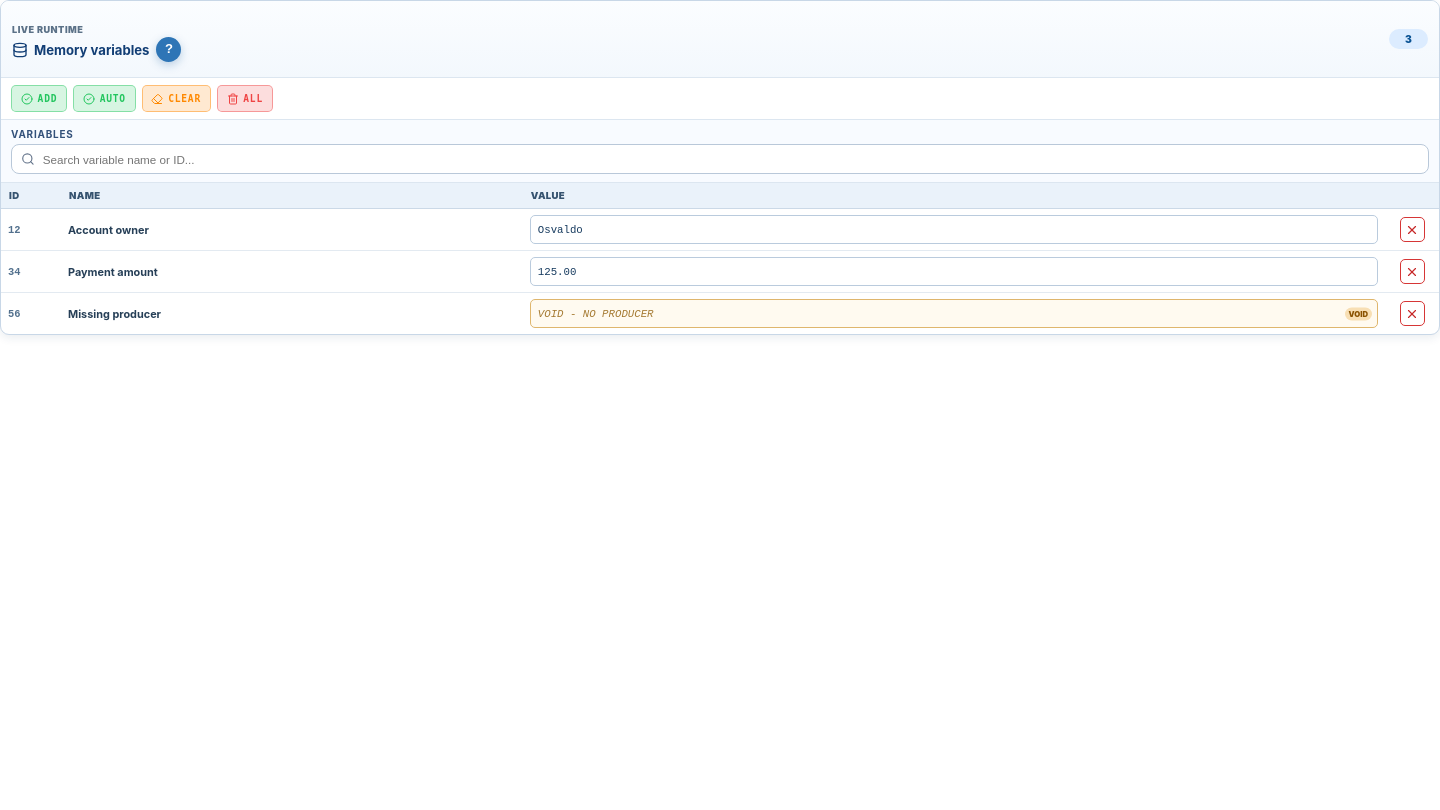
Scenario: opens concise Memory variable rules help
The image size is (1440, 810).
Click the button named "Open Memory variable rules" at (169, 49), box x1=156 y1=36 x2=181 y2=62
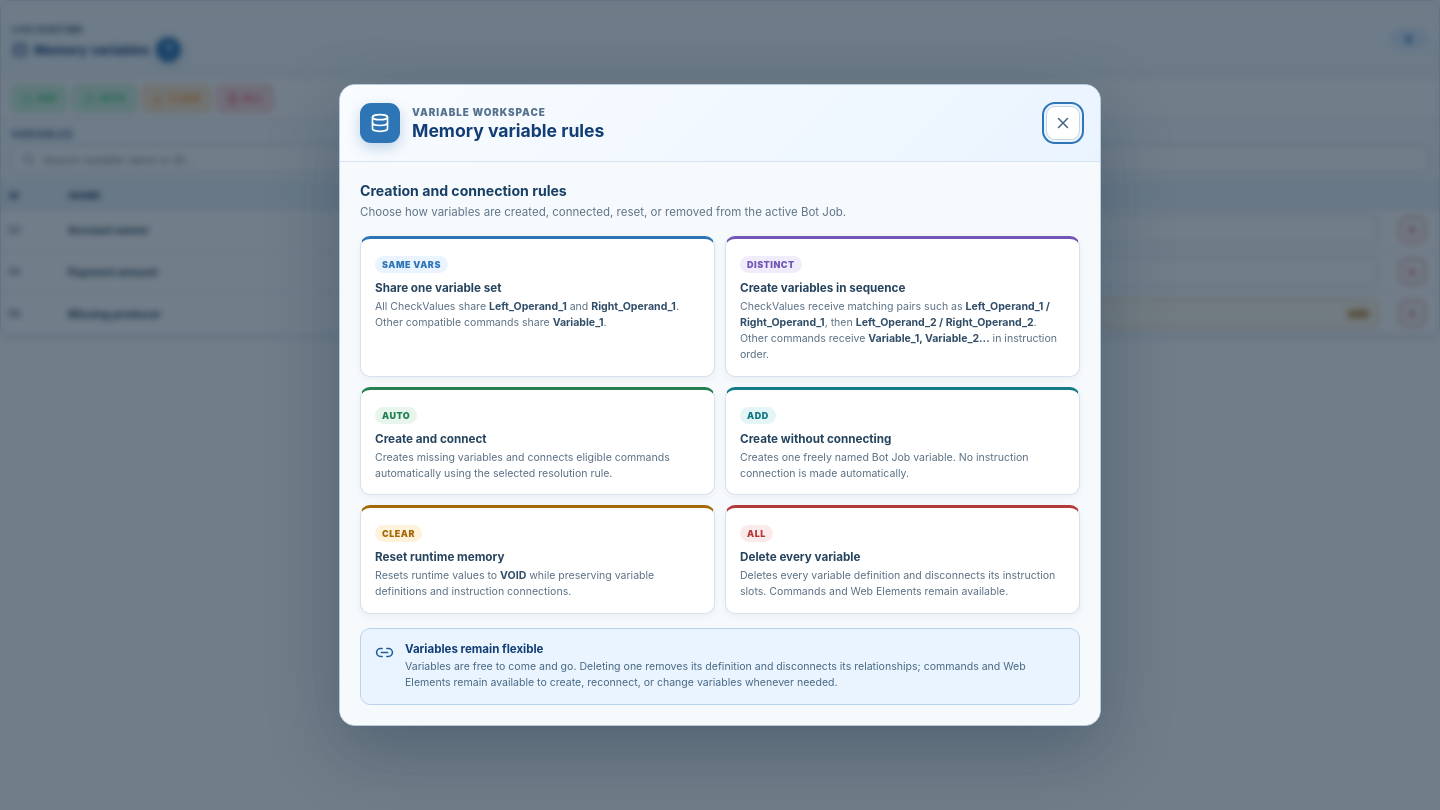
Now the dialog "Memory variable rules" is shown, box x1=339 y1=84 x2=1101 y2=726
Now the heading "Share one variable set" is shown, box x1=375 y1=281 x2=501 y2=295
Now the heading "Delete every variable" is shown, box x1=740 y1=550 x2=860 y2=564
